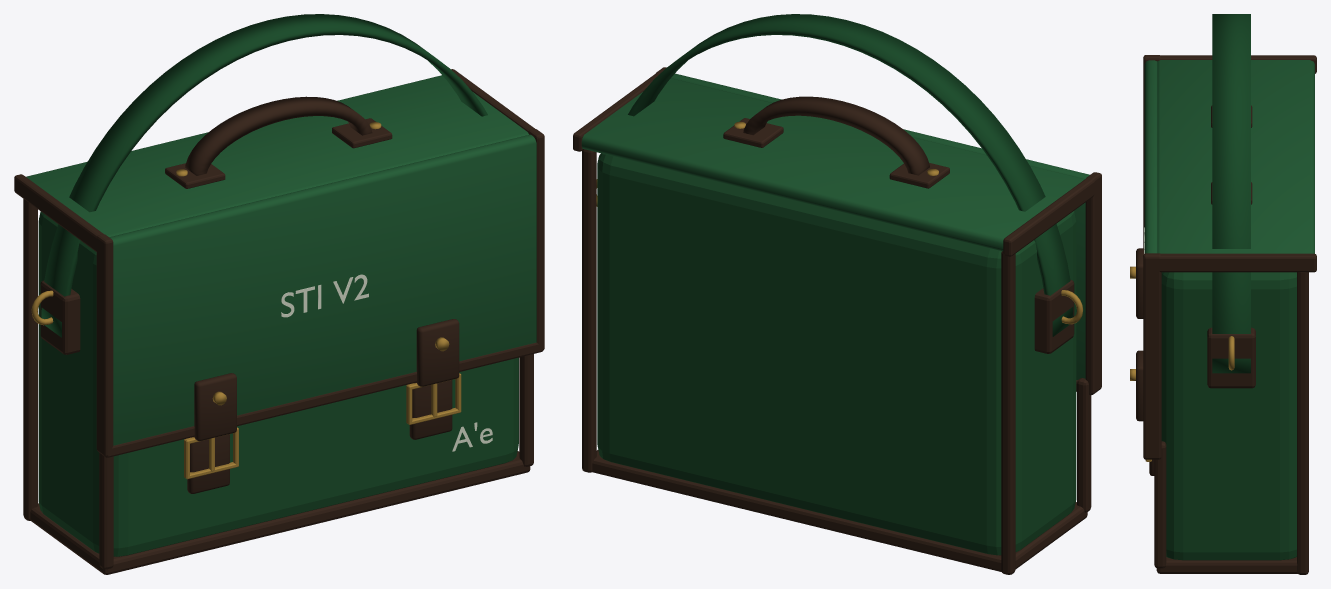
3 renders of one model, left to right at view 1: azimuth 30°, elevation 25°; view 2: azimuth 150°, elevation 25°; view 3: azimuth 270°, elevation 25°, orthographic. The views are drawn at different scales.
Visible parts, largest first — view 1: Flap, Body, Body_Trim, Shoulder_Strap, Flap_Trim, Strap_R, Handle, Strap_L, Side_Tab_L, Handle_Tabs, Buckle_R, Buckle_L (+1 smaller); view 2: Body, Flap, Body_Trim, Shoulder_Strap, Flap_Trim, Handle, Side_Tab_L, Handle_Tabs; view 3: Body, Flap, Shoulder_Strap, Flap_Trim, Body_Trim, Side_Tab_R, Strap_R, Strap_L.
Part boxes in pixels (x1,y1,x2,y2): Flap: (26, 75, 536, 445); Body: (38, 211, 518, 556); Body_Trim: (23, 199, 533, 574); Shoulder_Strap: (41, 14, 487, 337); Flap_Trim: (14, 69, 544, 457); Strap_R: (409, 319, 459, 439); Handle: (185, 96, 372, 175); Strap_L: (187, 373, 236, 493); Side_Tab_L: (40, 280, 80, 354); Handle_Tabs: (165, 118, 392, 188); Buckle_R: (406, 373, 461, 424); Buckle_L: (184, 427, 238, 479); Body: (597, 153, 1076, 555); Flap: (581, 73, 1089, 380); Body_Trim: (582, 149, 1091, 574); Shoulder_Strap: (628, 14, 1073, 336); Flap_Trim: (573, 67, 1101, 395); Handle: (743, 96, 929, 175); Side_Tab_L: (1034, 279, 1074, 353); Handle_Tabs: (723, 118, 949, 188); Body: (1161, 272, 1296, 560); Flap: (1144, 60, 1314, 253); Shoulder_Strap: (1212, 14, 1250, 373); Flap_Trim: (1143, 55, 1316, 459); Body_Trim: (1154, 272, 1308, 574); Side_Tab_R: (1207, 327, 1255, 388); Strap_R: (1136, 350, 1154, 475); Strap_L: (1136, 248, 1143, 318).
Bounding box in the file's own units: 0.444 × 0.4025 × 0.1545.
